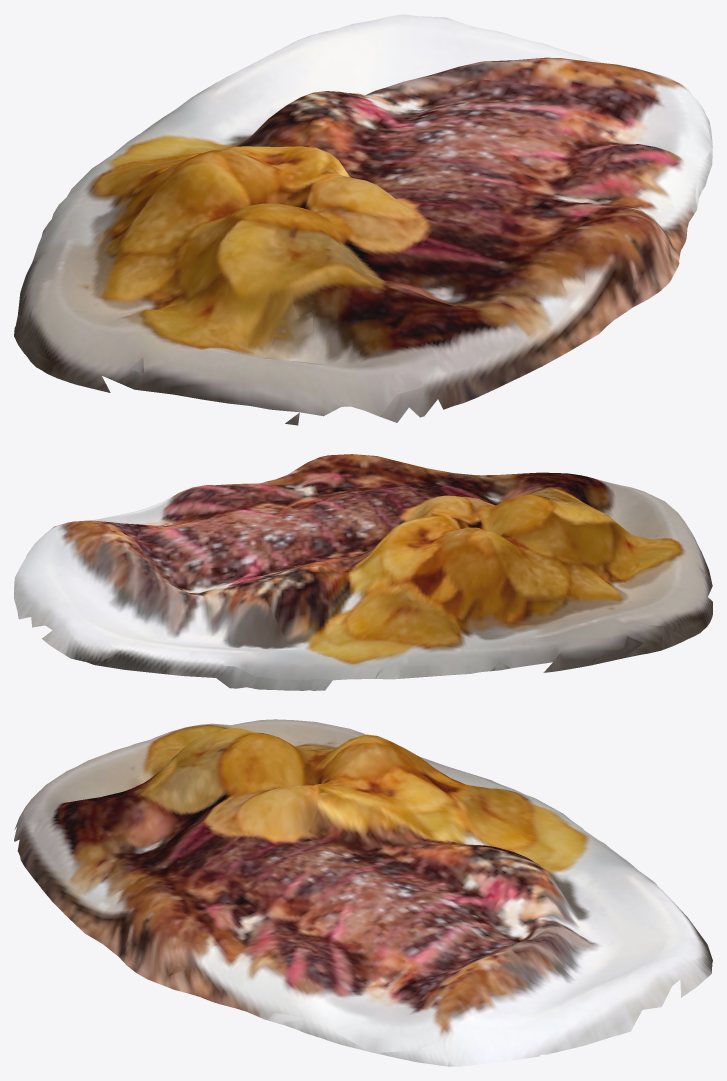
The model's file is chuleta__spanish_basque_typical_food(1).glb.
3 renders of one model, top to bottom at view 1: azimuth 30°, elevation 25°; view 2: azimuth 150°, elevation 25°; view 3: azimuth 270°, elevation 25°, orthographic. The views are drawn at different scales.
Visible parts, largest first — view 1: Object_2; view 2: Object_2; view 3: Object_2.
Boxes of the visible parts, bbox=[...] form: Object_2: bbox=[14, 14, 712, 425]; Object_2: bbox=[14, 454, 712, 690]; Object_2: bbox=[14, 719, 712, 1066].
Bounding box in the file's own units: 0.3966 × 0.0558 × 0.3577.
Materials: 1 (1 with a texture image).
